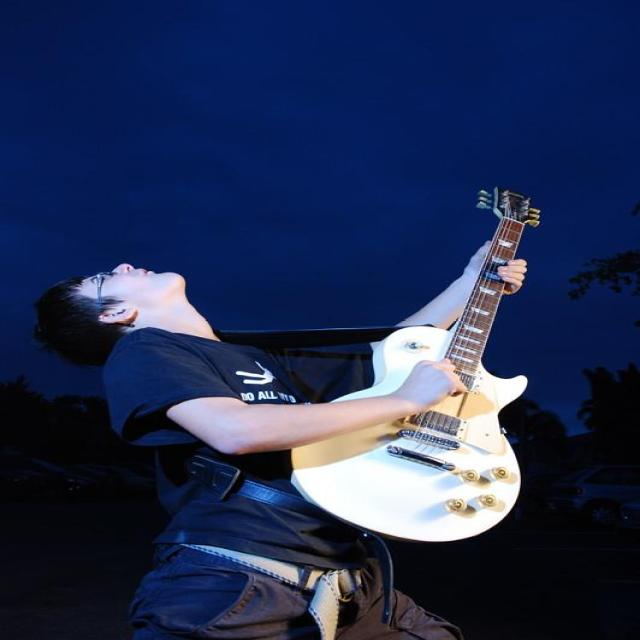guitar: (293, 188, 538, 541)
